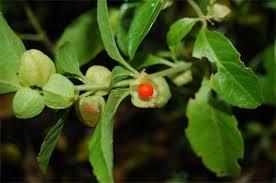healthy_leaf: (15, 27, 230, 160)
